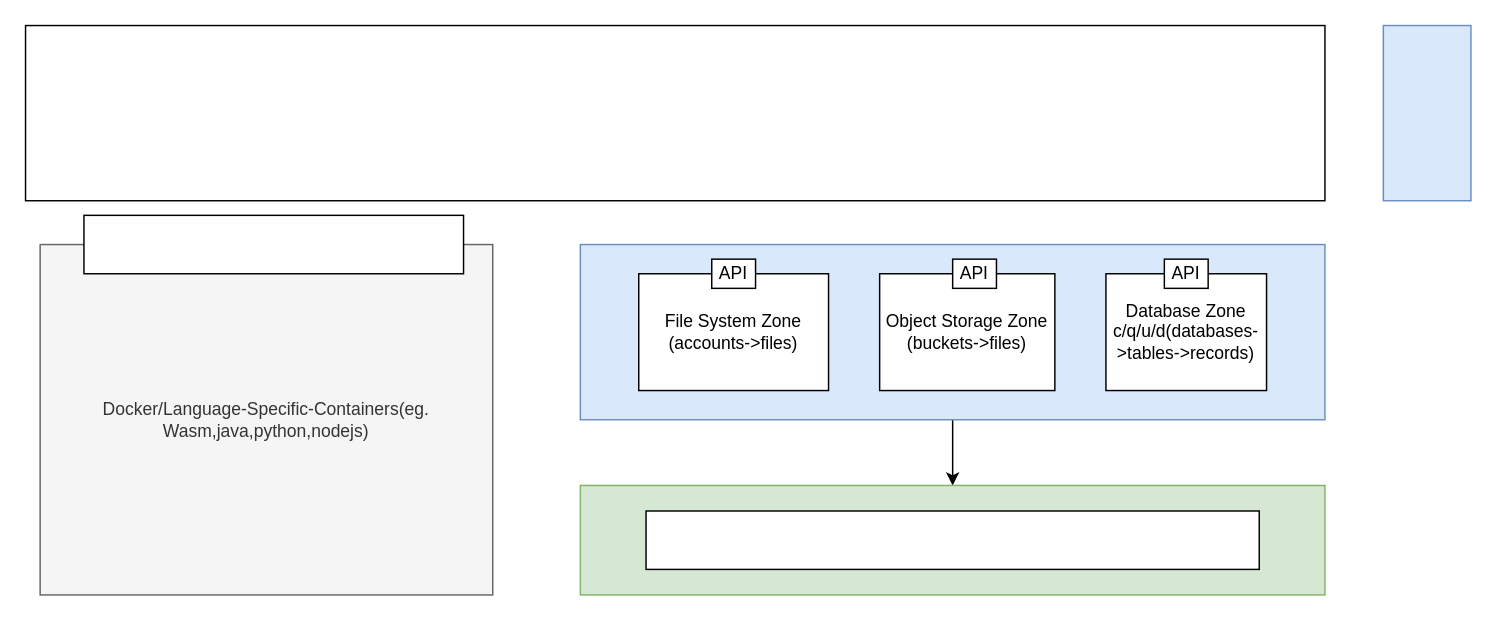
Image size: 1497x621. Some labels were removed from this diagram. The shapes that lost their labels are listed below. From the top down, each one's centre as x and y in pixels, then its label:
point 674,112: Applications/Services
point 1426,112: Service Layer
point 273,244: API(c/q/u/d)
point 952,539: Storage Blockchain
